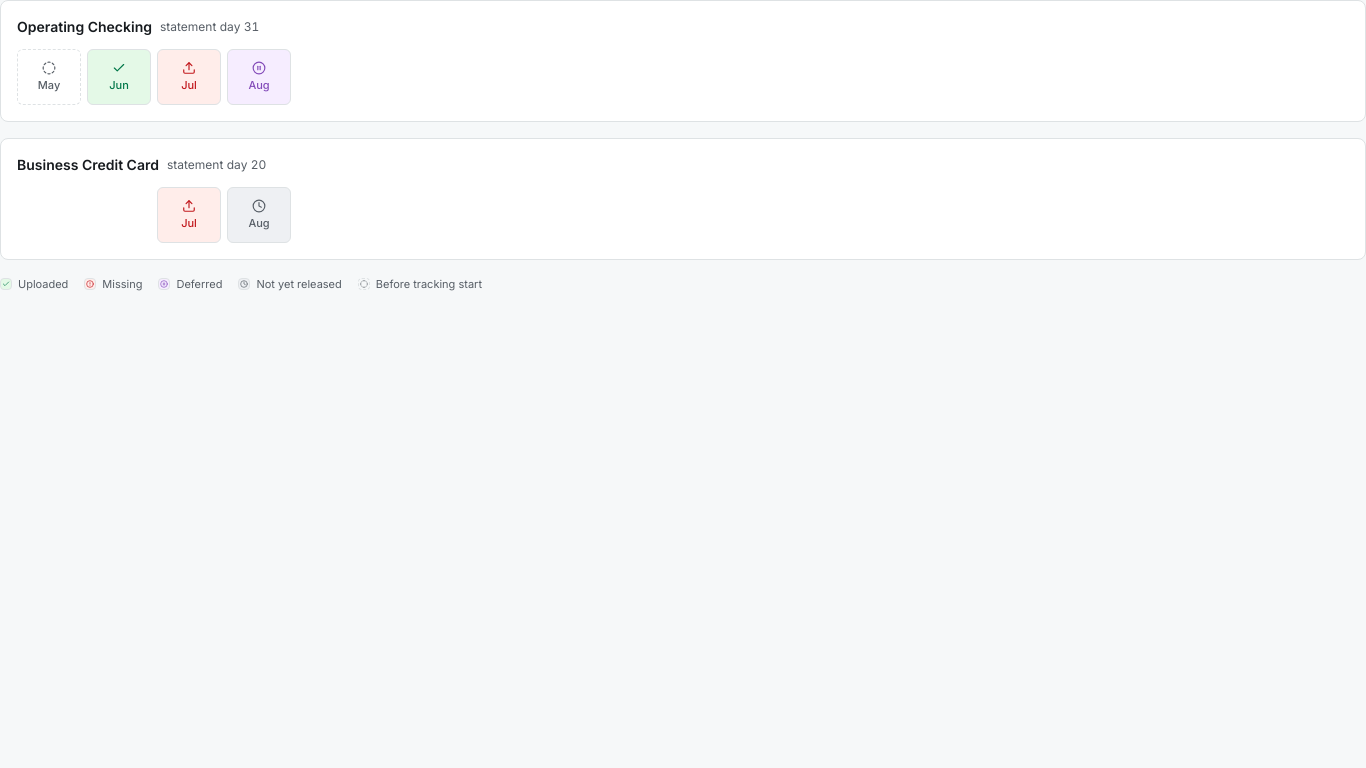
it: PortalStatementsGrid › can_upload_docs on: missing and deferred cells open the upload dialog
The image size is (1366, 768).
What coordinates should you click on to do the following:
click the button with test id "statement-cell-11-2026-7"
I would click on:
 (189, 77)
Its box is [157,49,221,105].
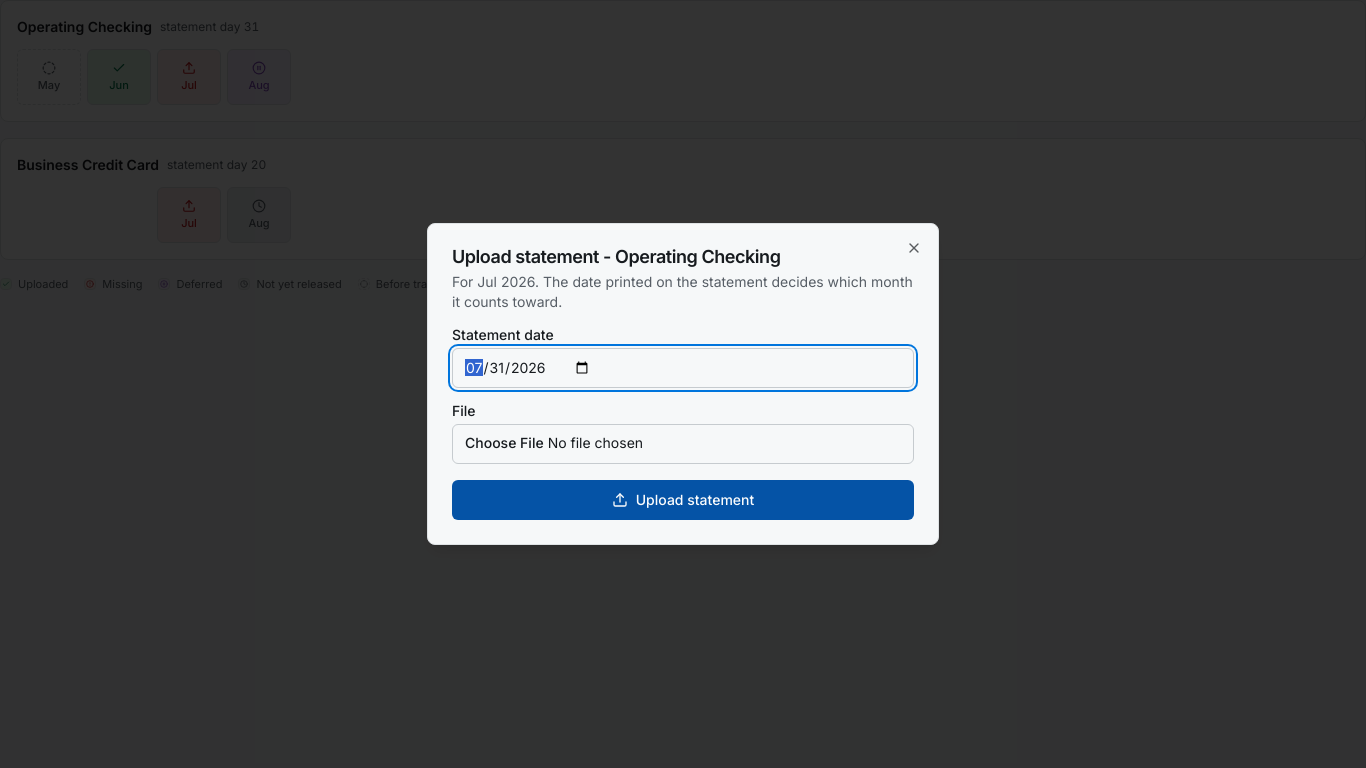
Expected: the dialog is shown, [427,223,939,545]
Expected: the date field labelled "Statement date" holds "2026-07-31", [452,348,914,388]
Expected: the file field labelled "File" is shown, [452,424,914,464]
